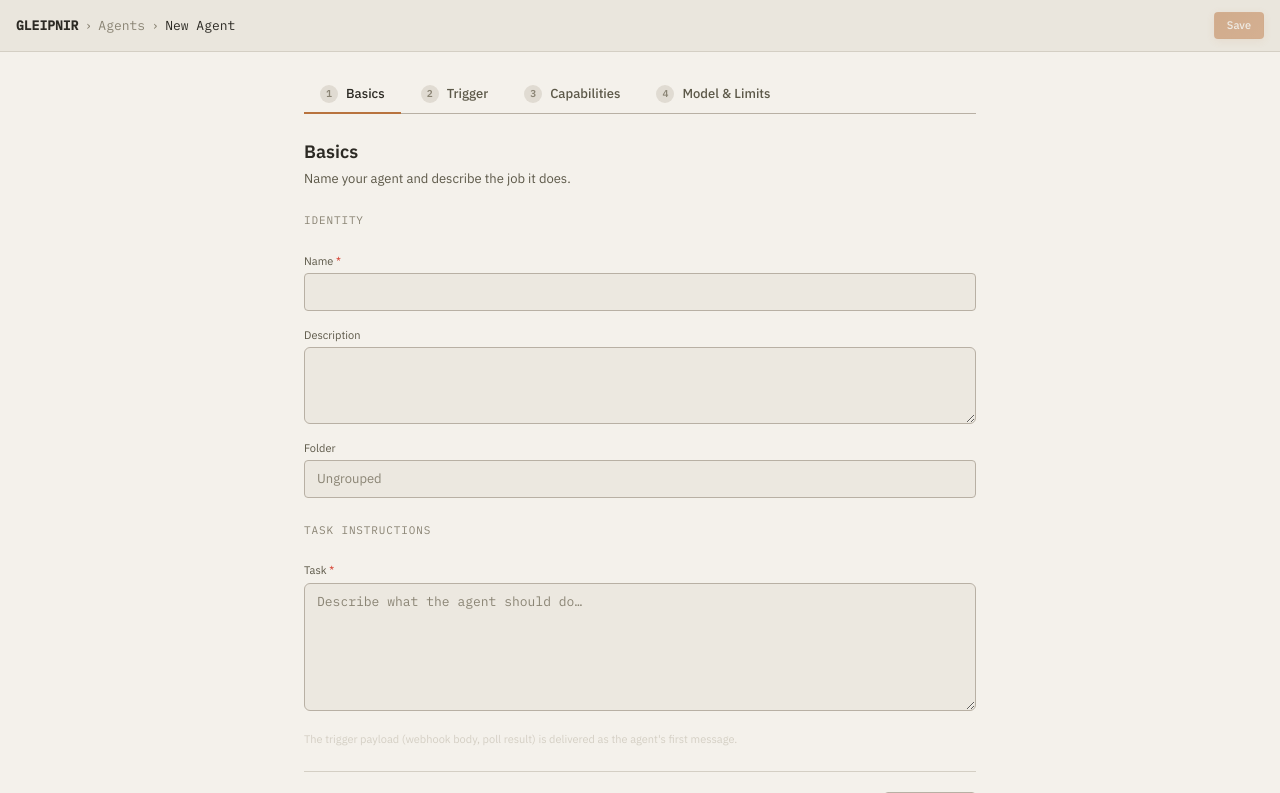
Test: AgentEditorPage — audience draft preservation › writes the merged FormState to localStorage on every edit
# Type in the name field — first textbox belongs to PolicyIdentitySection.
Type "draft-agent" into the field labelled "Name" at (640, 292), box [304, 273, 976, 310]
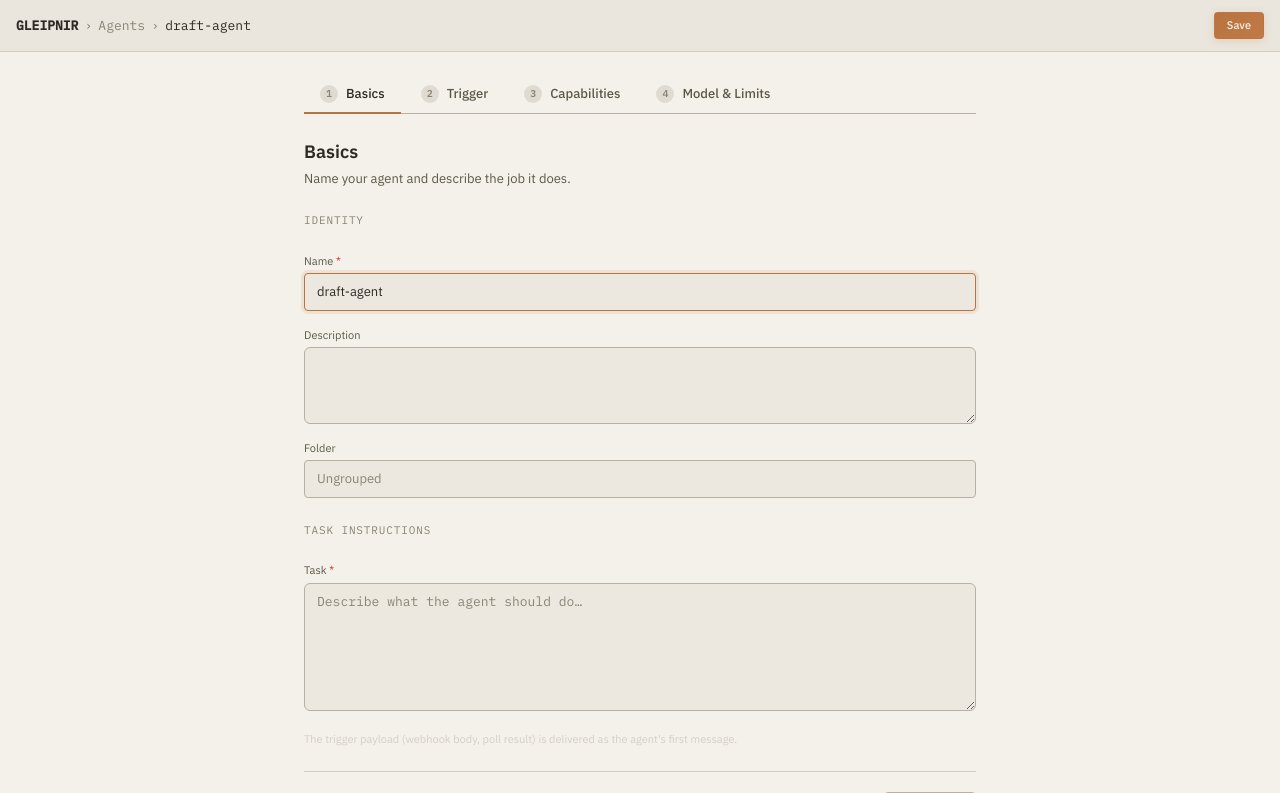
Expected: the text "draft-agent" is shown, [165, 16, 251, 35]
